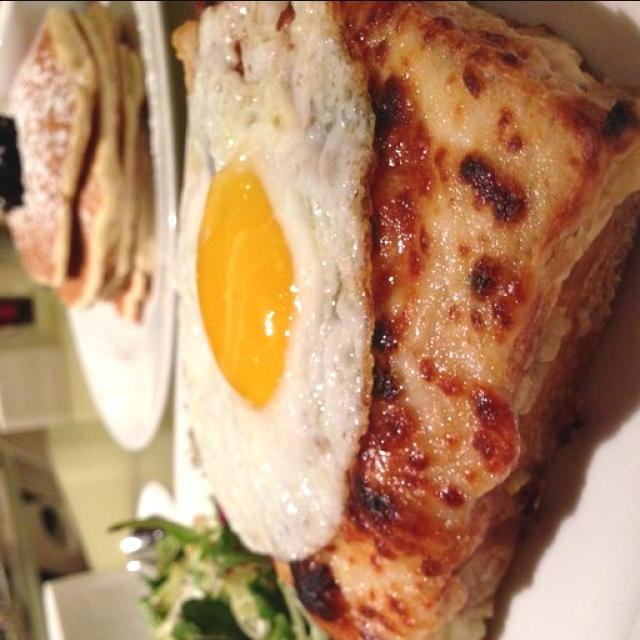telur ceplok: (179, 0, 378, 561)
